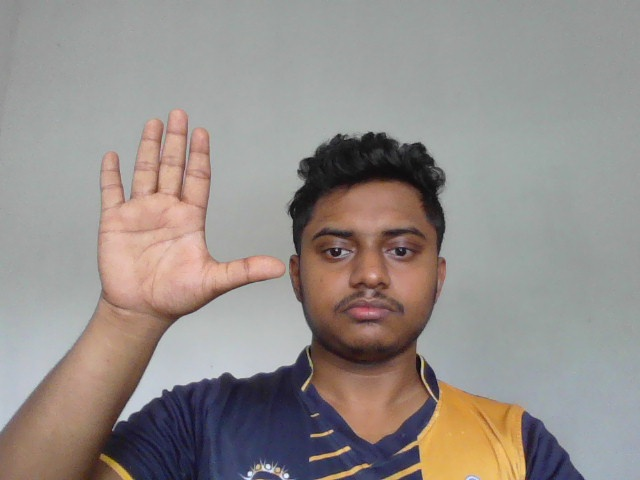Hello: (94, 105, 287, 329)
